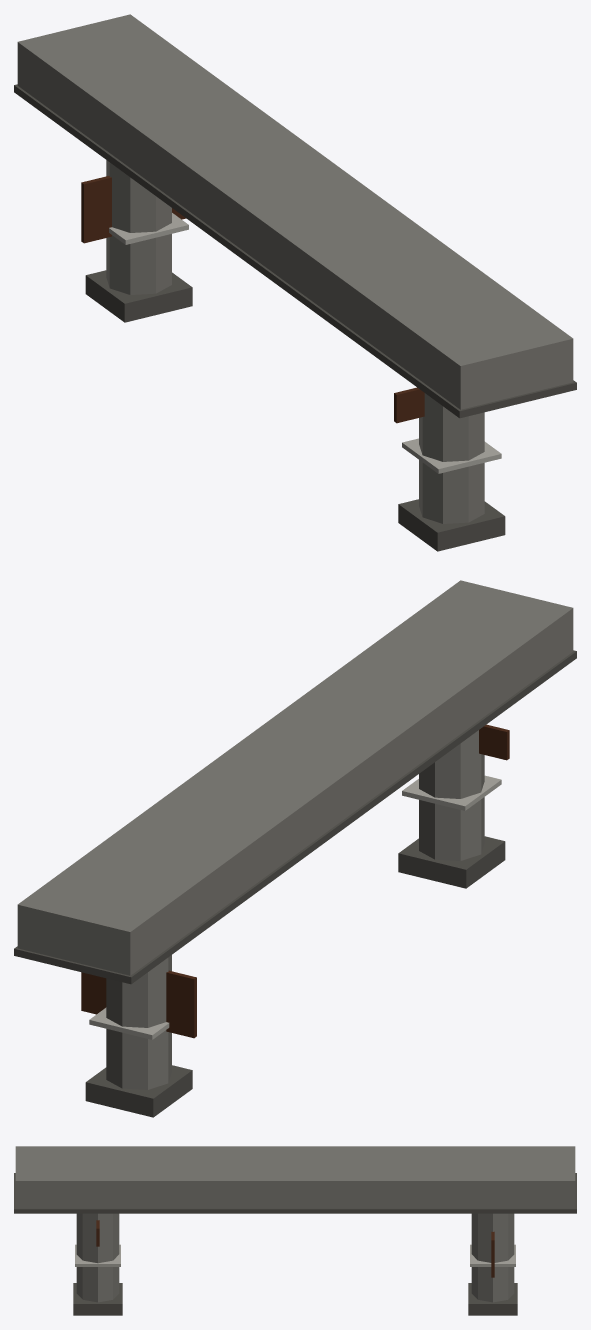
The model's file is env_bridge_bent_low.fbx.
3 renders of one model, top to bottom at view 1: azimuth 30°, elevation 25°; view 2: azimuth 150°, elevation 25°; view 3: azimuth 270°, elevation 25°, orthographic. The views are drawn at different scales.
Parts seen in each view (by area): view 1: env_bridge_bent_low; view 2: env_bridge_bent_low; view 3: env_bridge_bent_low.
Boxes of the visible parts, <box> form: env_bridge_bent_low: <box>14,14,576,551</box>; env_bridge_bent_low: <box>14,580,576,1117</box>; env_bridge_bent_low: <box>14,1146,576,1315</box>.
Bounding box in the file's own units: 520 × 950 × 3420.
